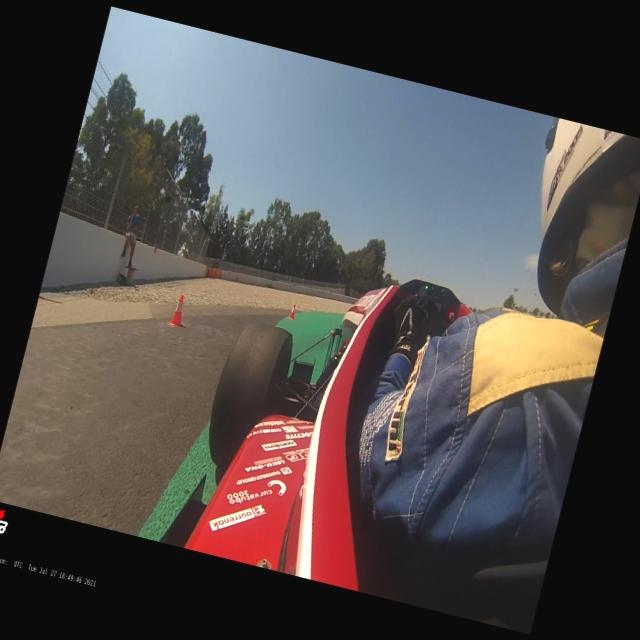orange_cone: (167, 294, 191, 328), (286, 302, 298, 320)
